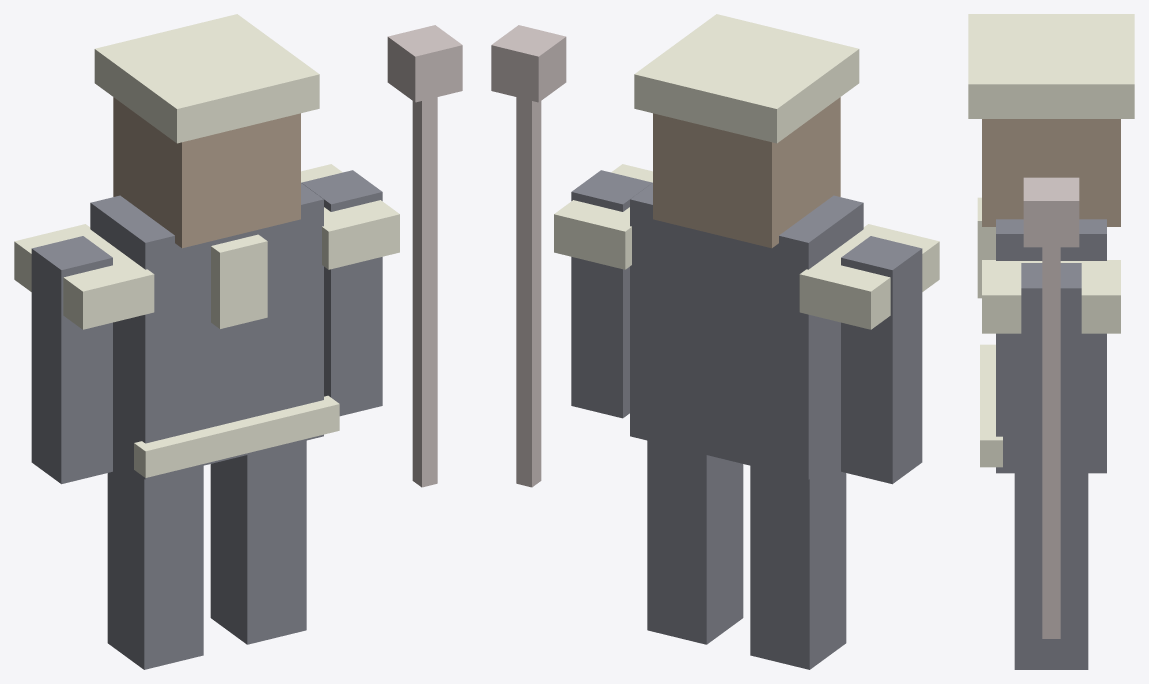
File: 17_zerin_nullborne_ranger_of_counterweight.glb
3 views of the same model, side by side, from view 1: azimuth 30°, elevation 25°; view 2: azimuth 150°, elevation 25°; view 3: azimuth 270°, elevation 25° (orthographic).
Visible parts, largest first — view 1: Zerin Nullborne, Ranger of Counterweight; view 2: Zerin Nullborne, Ranger of Counterweight; view 3: Zerin Nullborne, Ranger of Counterweight.
Part boxes in pixels (<box>): Zerin Nullborne, Ranger of Counterweight: <box>14,14,462,669</box>; Zerin Nullborne, Ranger of Counterweight: <box>491,14,939,669</box>; Zerin Nullborne, Ranger of Counterweight: <box>968,14,1134,669</box>.
Bounding box in the file's own units: 1.07 × 1.46 × 0.3801.
